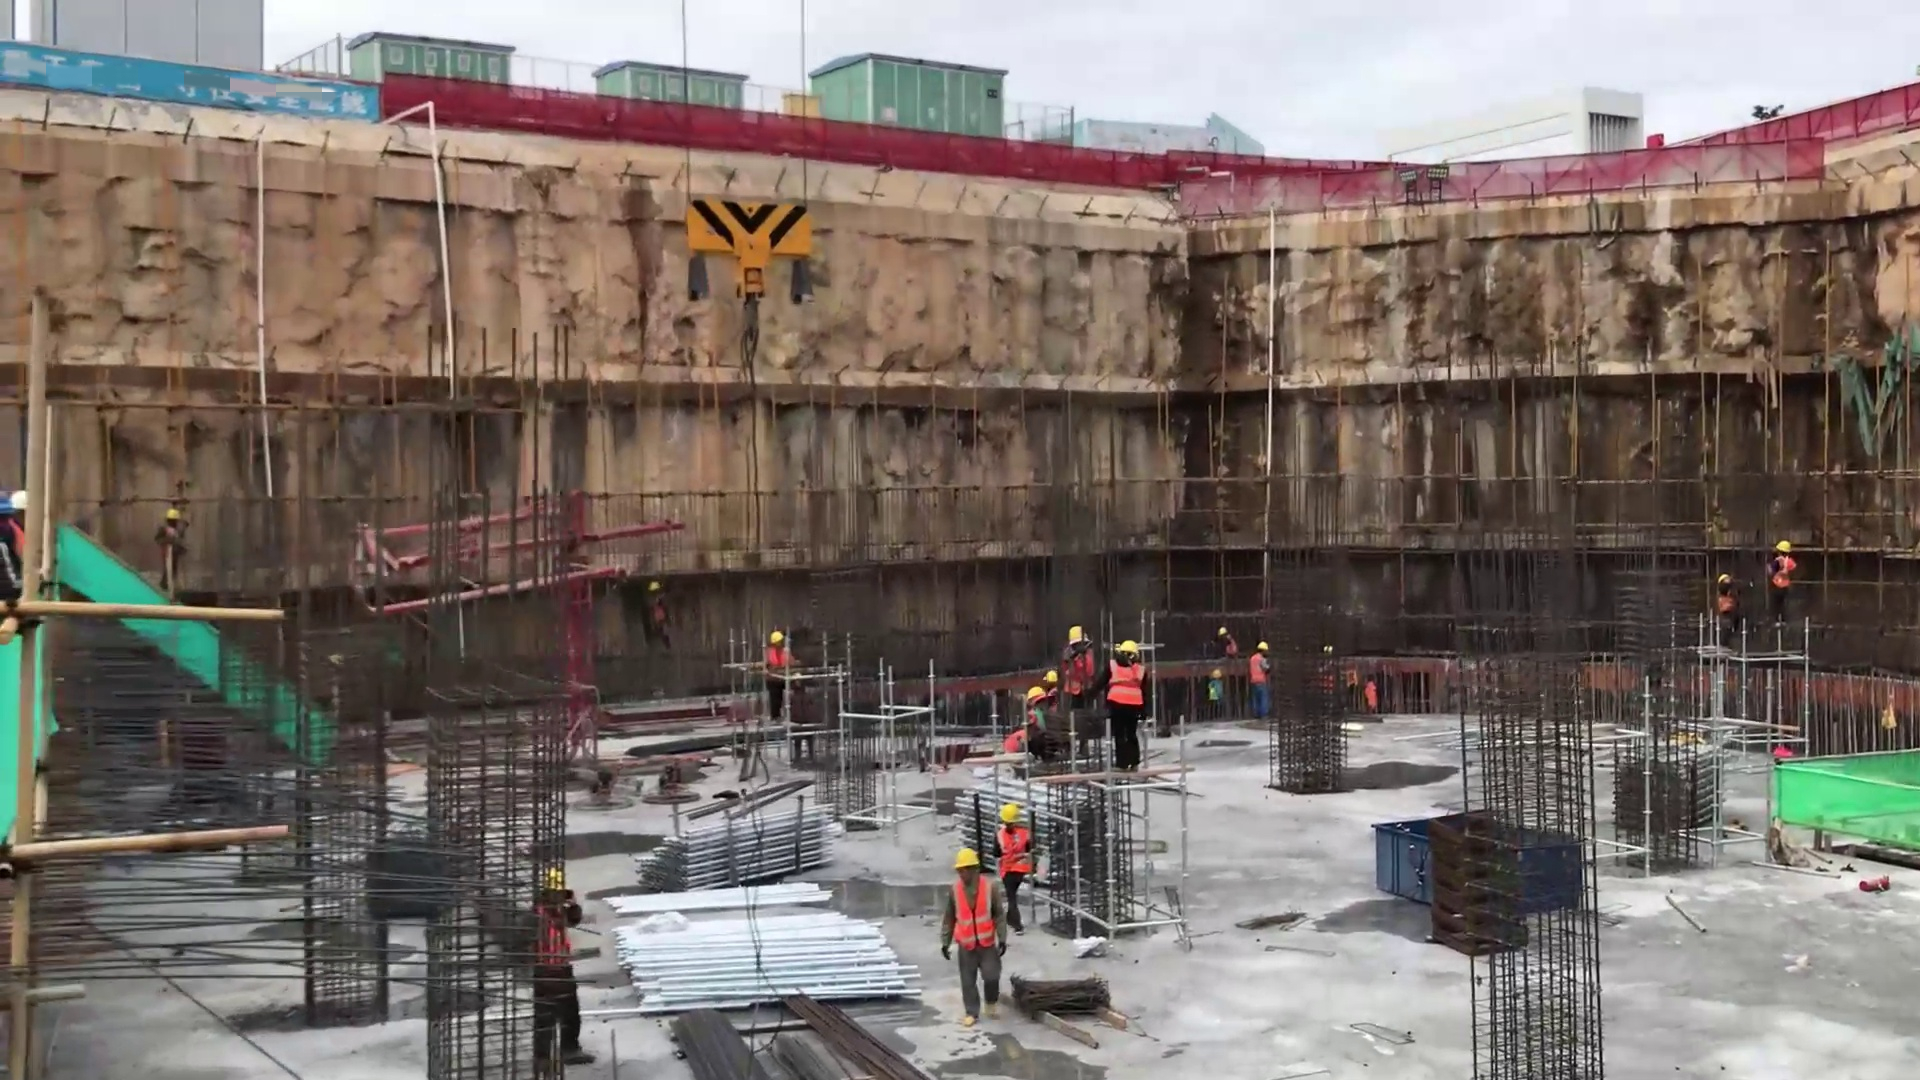helmet: (1106, 631, 1159, 673), (759, 615, 808, 658), (947, 833, 992, 874), (998, 800, 1036, 829), (1036, 660, 1074, 685)
person: (520, 862, 598, 1079), (943, 843, 1002, 996), (1092, 635, 1146, 781), (758, 620, 789, 708), (1770, 533, 1792, 608), (1713, 564, 1740, 620)
vest: (942, 870, 1006, 960), (1104, 660, 1146, 707), (531, 901, 565, 961), (1362, 674, 1388, 708), (1774, 551, 1800, 583), (1709, 583, 1736, 611), (763, 651, 793, 677), (1246, 647, 1267, 681)
